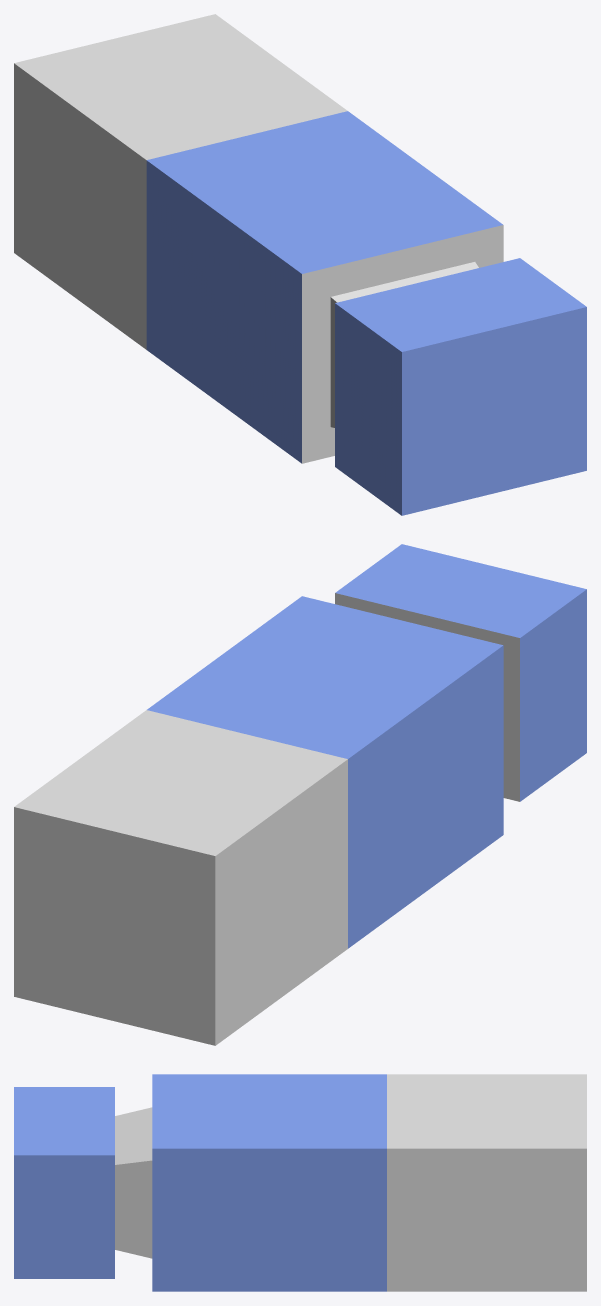
Rendered from zombiearmr.obj.
The picture shows the model from 3 angles, top to bottom: view 1: azimuth 30°, elevation 25°; view 2: azimuth 150°, elevation 25°; view 3: azimuth 270°, elevation 25°; orthographic projection. The views are drawn at different scales.
Visible parts, largest first — view 1: cube5; view 2: cube5; view 3: cube5.
Part boxes in pixels (<box>): cube5: <box>14,14,586,515</box>; cube5: <box>14,544,586,1045</box>; cube5: <box>14,1074,586,1291</box>.
Bounding box in the file's own units: 8 × 7.2 × 26.12.
Materials: 2 (2 with a texture image).
